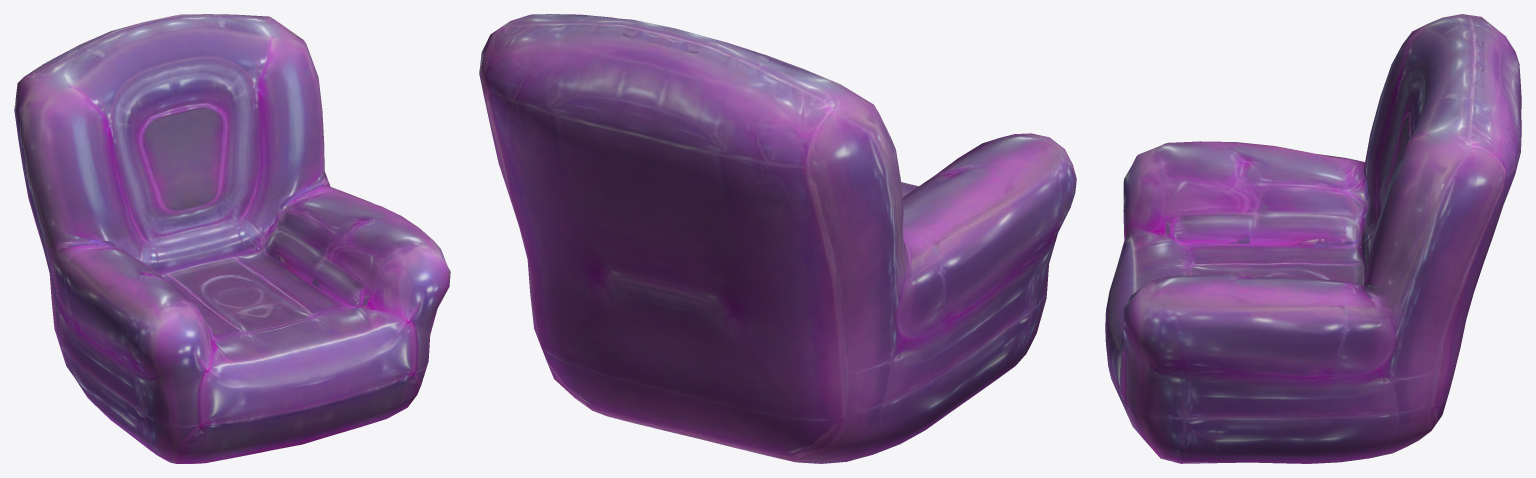
The model's file is inflatable_chair.gltf.
3 views of the same model, side by side, from view 1: azimuth 30°, elevation 25°; view 2: azimuth 150°, elevation 25°; view 3: azimuth 270°, elevation 25° (orthographic). The views are drawn at different scales.
Visible parts, largest first — view 1: inflatable_chair; view 2: inflatable_chair; view 3: inflatable_chair.
Boxes of the visible parts, bbox=[...] form: inflatable_chair: bbox=[14, 14, 450, 463]; inflatable_chair: bbox=[479, 14, 1076, 463]; inflatable_chair: bbox=[1105, 14, 1521, 463].
Bounding box in the file's own units: 123 × 121 × 128.
1 material, 1 textured.
